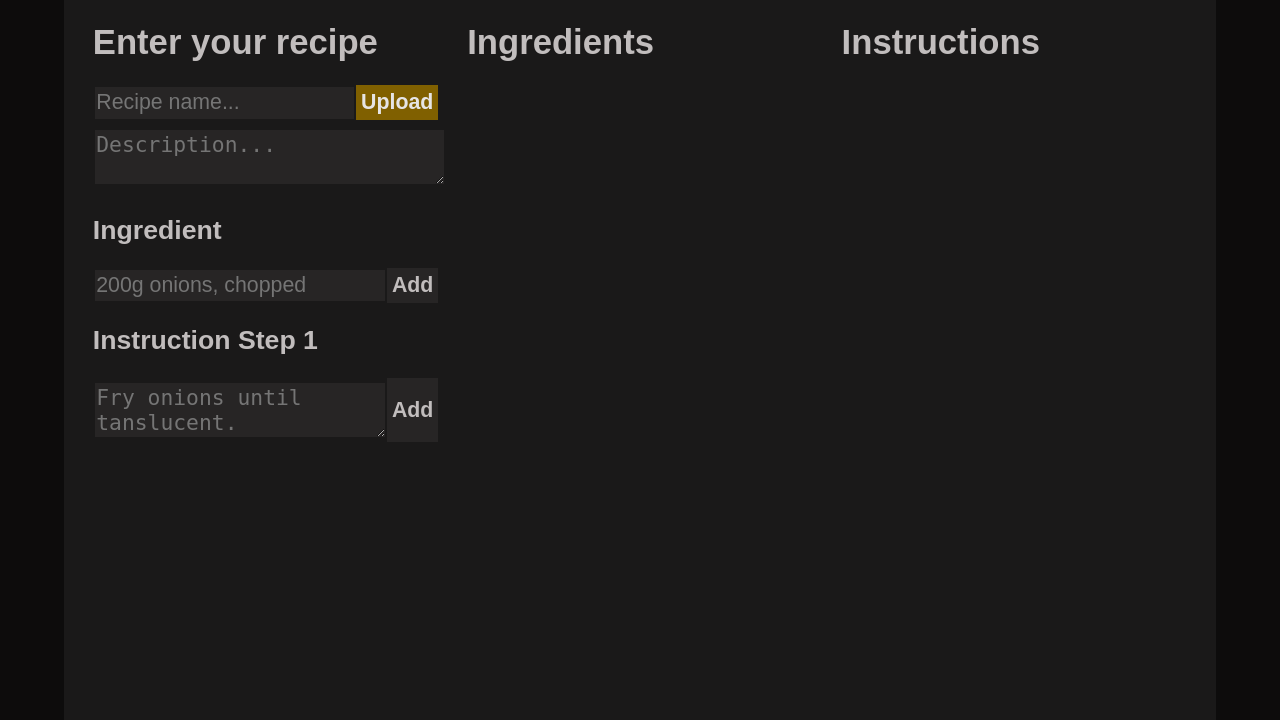
Scenario: Upload › should add of typed ingredient to the DynamicEditList and delete it
Type "1 large egg" into the field with test id "currIngredient" at (240, 286), box left=94, top=270, right=385, bottom=301
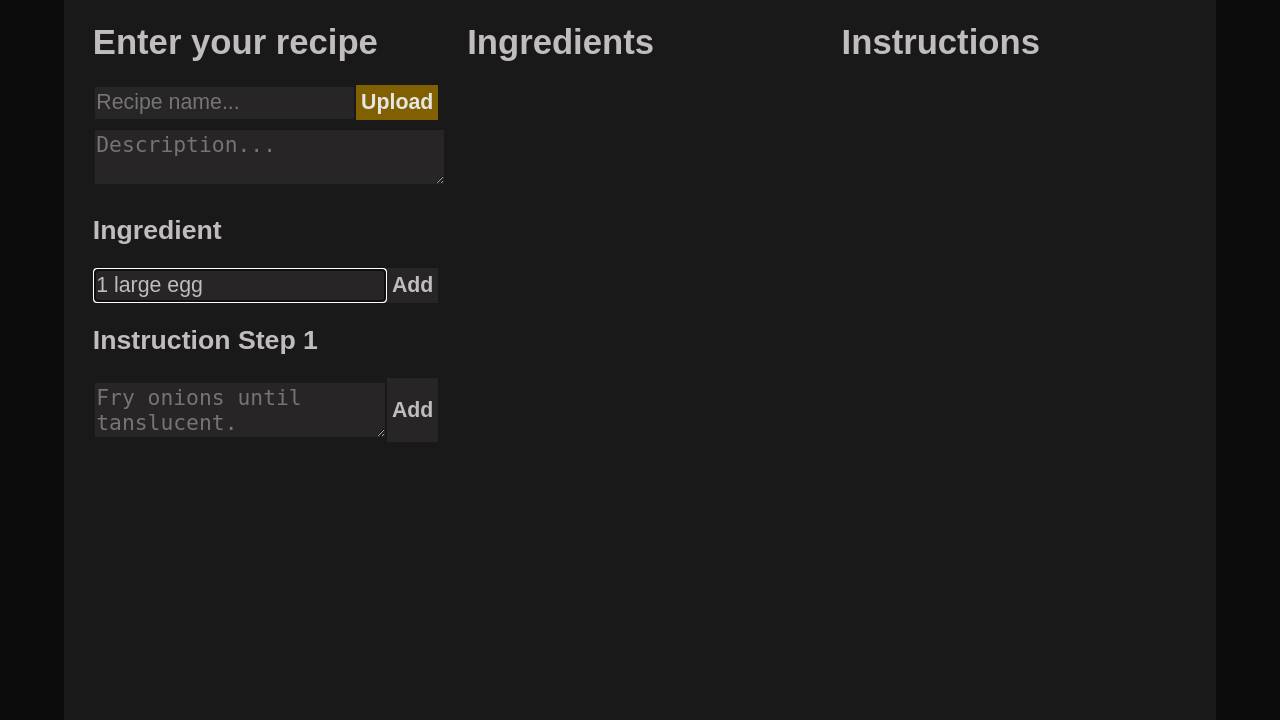
Click the button with test id "addIngredient-btn" at (413, 286), box left=387, top=268, right=438, bottom=303
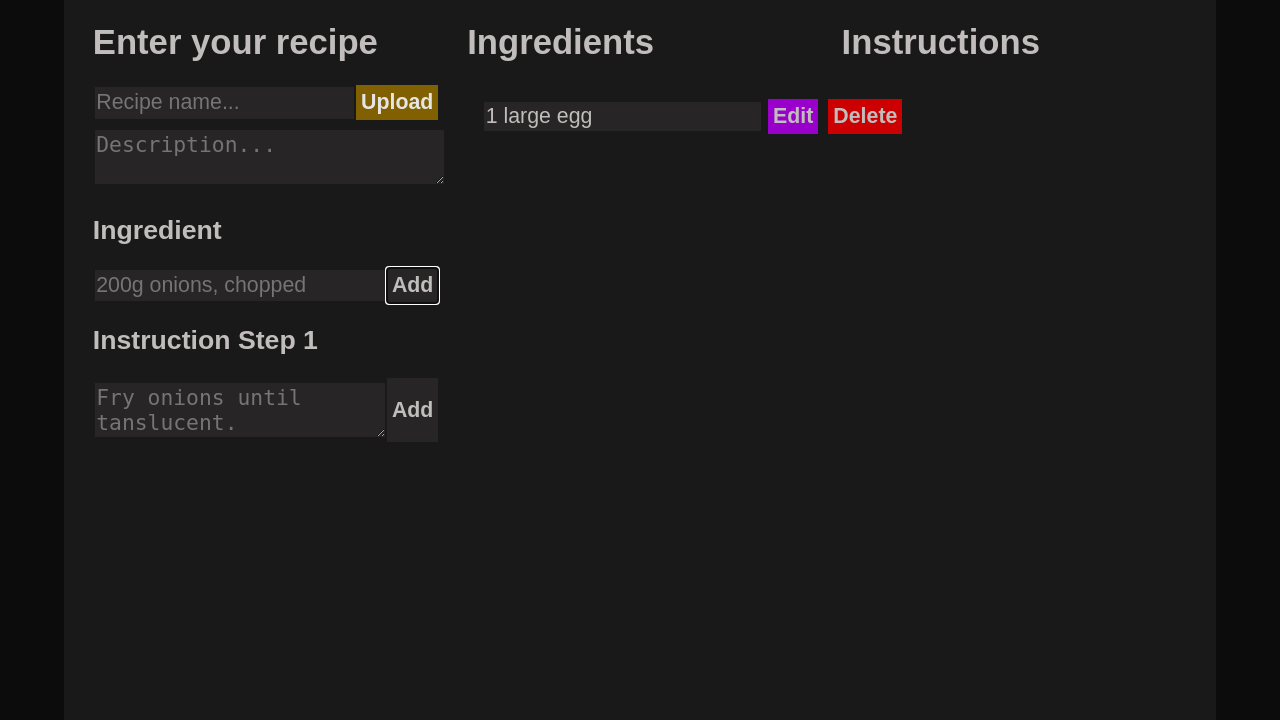
Click the button "Delete" at (865, 116), box left=828, top=99, right=902, bottom=134
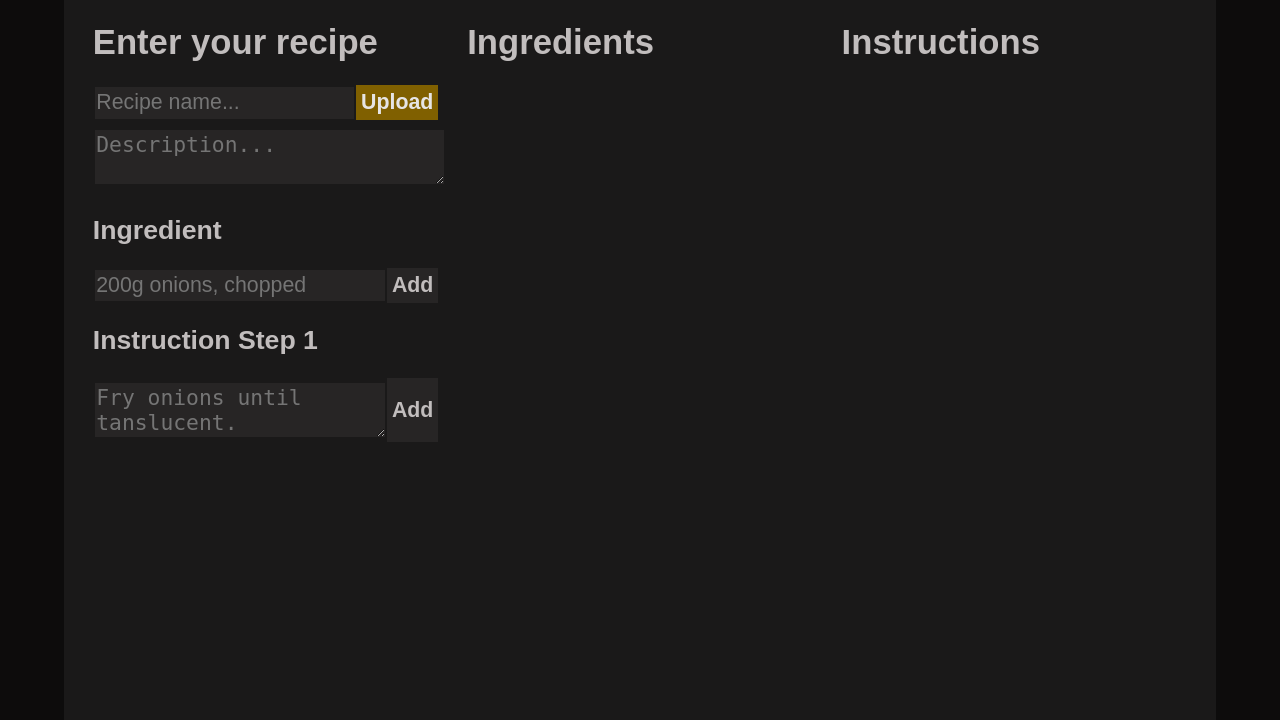
Check: the field with test id "currIngredient" is empty, box left=94, top=270, right=385, bottom=301
Check: the button "Edit" is gone
Check: the button "Delete" is gone
